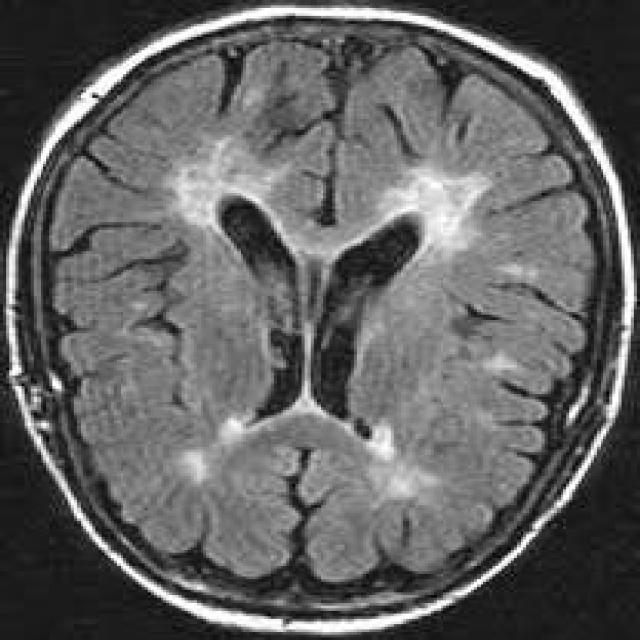notumor: (9, 8, 631, 629)
